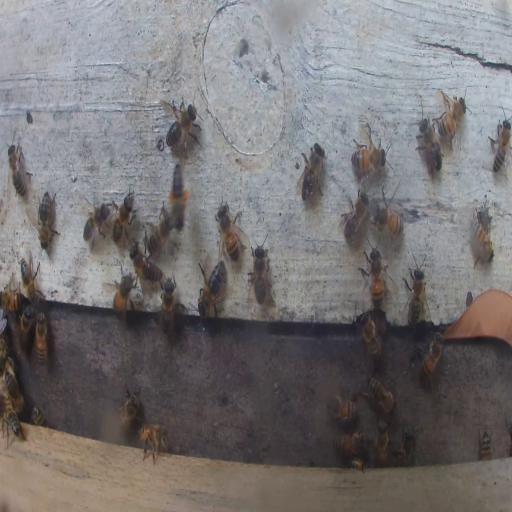bee: (161, 98, 201, 153), (216, 198, 246, 262), (166, 156, 190, 233), (296, 140, 326, 201), (438, 90, 468, 150), (415, 114, 443, 178), (245, 237, 271, 304), (404, 253, 426, 330), (197, 259, 225, 318), (488, 112, 512, 175), (82, 200, 112, 249), (472, 199, 494, 265), (418, 332, 446, 383), (129, 242, 161, 286), (144, 206, 173, 254), (36, 191, 60, 249), (362, 243, 384, 306), (137, 422, 170, 464), (341, 191, 369, 240), (110, 190, 134, 244), (373, 194, 404, 233), (366, 376, 396, 416), (7, 142, 28, 199), (348, 144, 388, 172), (393, 420, 417, 466), (360, 312, 382, 362), (118, 380, 140, 428), (3, 368, 24, 414), (158, 278, 175, 334), (20, 256, 41, 301), (2, 407, 25, 446), (114, 272, 134, 316), (332, 431, 367, 456), (329, 396, 357, 424), (2, 284, 24, 314), (34, 312, 46, 363), (19, 304, 33, 346), (376, 421, 389, 465), (478, 430, 492, 460), (30, 404, 46, 426), (348, 456, 368, 470)
